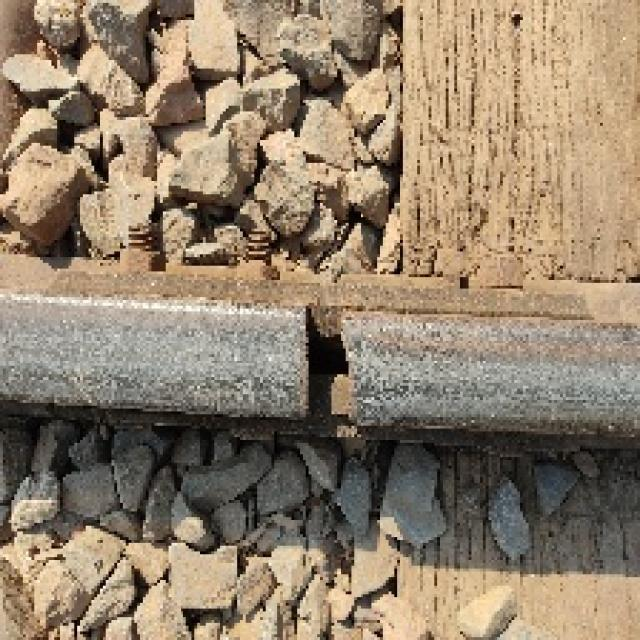Defective Joint: (18, 226, 608, 466)
